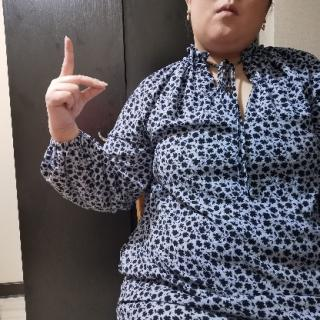TAA: (41, 33, 111, 138)
